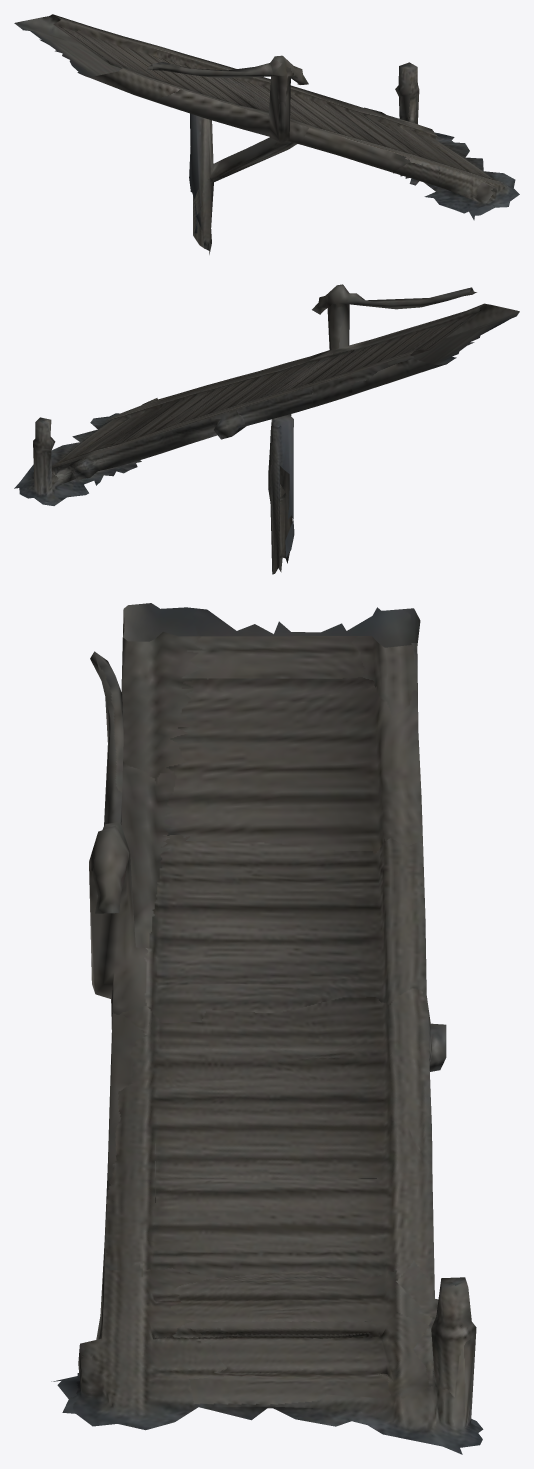
The model's file is horaro_market_ramp_lod0.glb.
3 views of the same model, one above another, from view 1: azimuth 30°, elevation 25°; view 2: azimuth 150°, elevation 25°; view 3: azimuth 270°, elevation 25° (orthographic). The views are drawn at different scales.
Visible parts, largest first — view 1: horaro_market_ramp_lod0; view 2: horaro_market_ramp_lod0; view 3: horaro_market_ramp_lod0.
Boxes of the visible parts, x1,y1,x2,y2 form: horaro_market_ramp_lod0: [14, 14, 519, 254]; horaro_market_ramp_lod0: [14, 284, 519, 574]; horaro_market_ramp_lod0: [51, 603, 483, 1454].
Bounding box in the file's own units: 4.71 × 2.82 × 2.08.
Materials: 1 (1 with a texture image).
